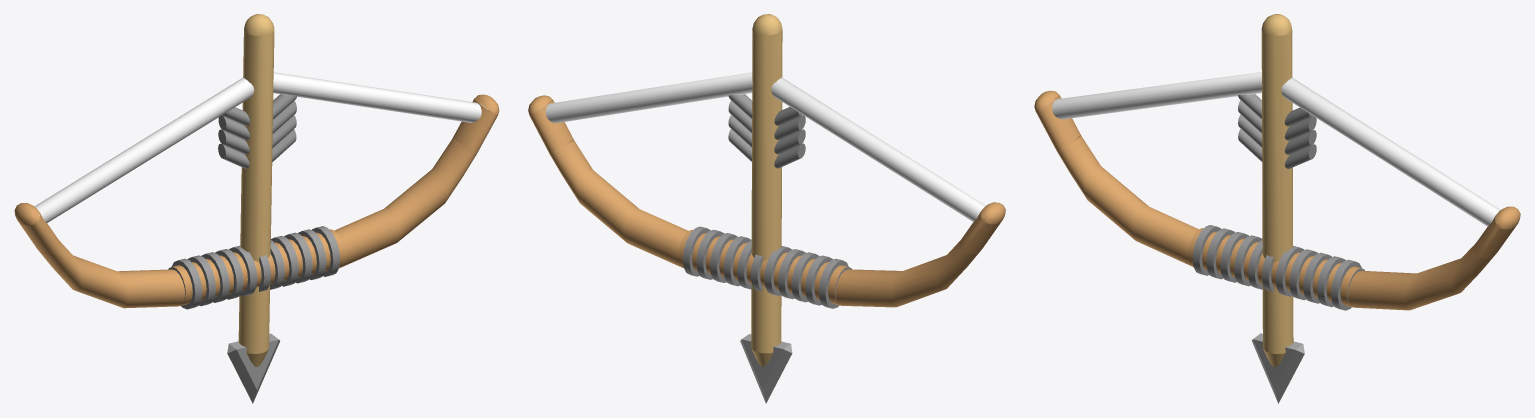
3 renders of one model, left to right at view 1: azimuth 30°, elevation 25°; view 2: azimuth 150°, elevation 25°; view 3: azimuth 330°, elevation 25°, orthographic.
Visible parts, largest first — view 1: SOLID-WHITE_115-material.001, SOLID-WHITE_115-material.004, SOLID-WHITE_115-material.250, SOLID-WHITE_115-material.003, SOLID-WHITE_115-material.002; view 2: SOLID-WHITE_115-material.001, SOLID-WHITE_115-material.004, SOLID-WHITE_115-material.003, SOLID-WHITE_115-material.250, SOLID-WHITE_115-material.002; view 3: SOLID-WHITE_115-material.001, SOLID-WHITE_115-material.004, SOLID-WHITE_115-material.250, SOLID-WHITE_115-material.003, SOLID-WHITE_115-material.002.
Boxes of the visible parts, x1,y1,x2,y2 form: SOLID-WHITE_115-material.001: (14,94,499,308); SOLID-WHITE_115-material.004: (34,72,487,222); SOLID-WHITE_115-material.250: (168,94,340,309); SOLID-WHITE_115-material.003: (238,14,274,367); SOLID-WHITE_115-material.002: (227,333,279,403); SOLID-WHITE_115-material.001: (528,95,1005,307); SOLID-WHITE_115-material.004: (539,72,985,221); SOLID-WHITE_115-material.003: (751,14,782,366); SOLID-WHITE_115-material.250: (682,94,852,308); SOLID-WHITE_115-material.002: (740,334,792,403); SOLID-WHITE_115-material.001: (1034,90,1520,310); SOLID-WHITE_115-material.004: (1045,72,1500,226); SOLID-WHITE_115-material.250: (1192,94,1364,310); SOLID-WHITE_115-material.003: (1261,14,1293,367); SOLID-WHITE_115-material.002: (1251,333,1304,403).
Size of the model in its own units: 154 by 120 by 14.09.
